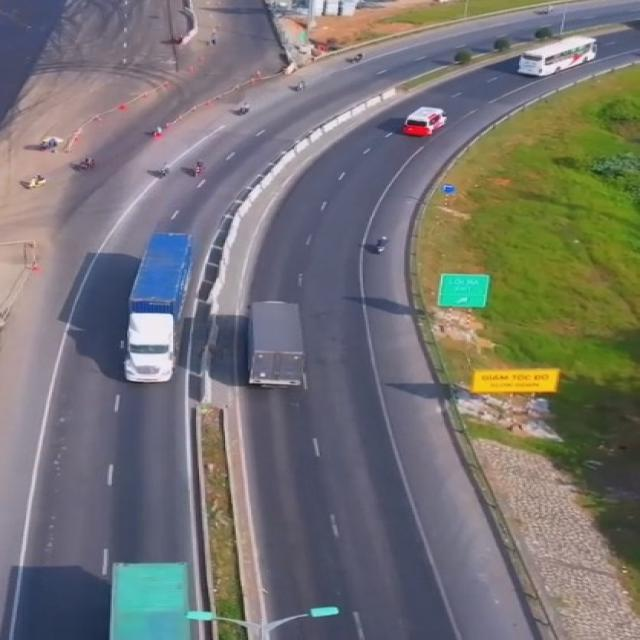bus: (518, 37, 600, 77), (404, 108, 450, 134)
motorbike: (372, 237, 389, 255)
truck: (115, 232, 204, 384), (110, 562, 192, 640), (247, 301, 304, 390)
